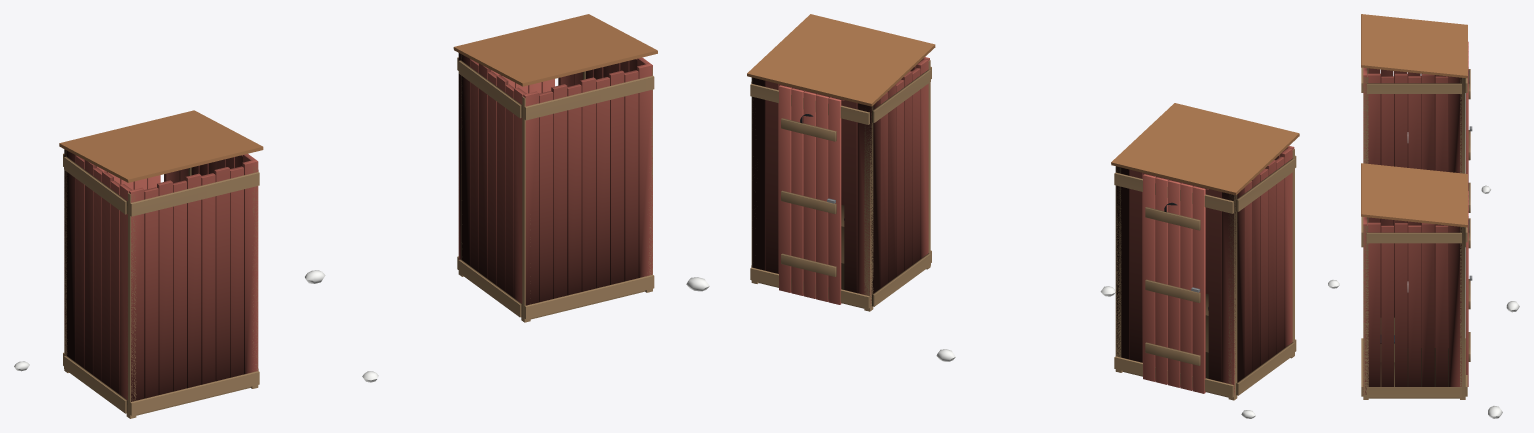
The model's file is toilets.glb.
3 renders of one model, left to right at view 1: azimuth 30°, elevation 25°; view 2: azimuth 150°, elevation 25°; view 3: azimuth 270°, elevation 25°, orthographic. The views are drawn at different scales.
Parts seen in each view (by area): view 1: PART; view 2: PART, DOOR_wc_b, DOOR_wc_a; view 3: PART, DOOR_wc_a, DOOR_wc_b.
Part boxes in pixels (x1=…): PART: x1=14, y1=14, x2=657, y2=418; PART: x1=686, y1=14, x2=1299, y2=418; DOOR_wc_b: x1=1143, y1=174, x2=1205, y2=393; DOOR_wc_a: x1=779, y1=85, x2=841, y2=304; PART: x1=1328, y1=14, x2=1519, y2=418; DOOR_wc_a: x1=1466, y1=191, x2=1472, y2=386; DOOR_wc_b: x1=1466, y1=41, x2=1472, y2=212.
Size of the model in its own units: 6.09 by 2.33 by 2.14.
